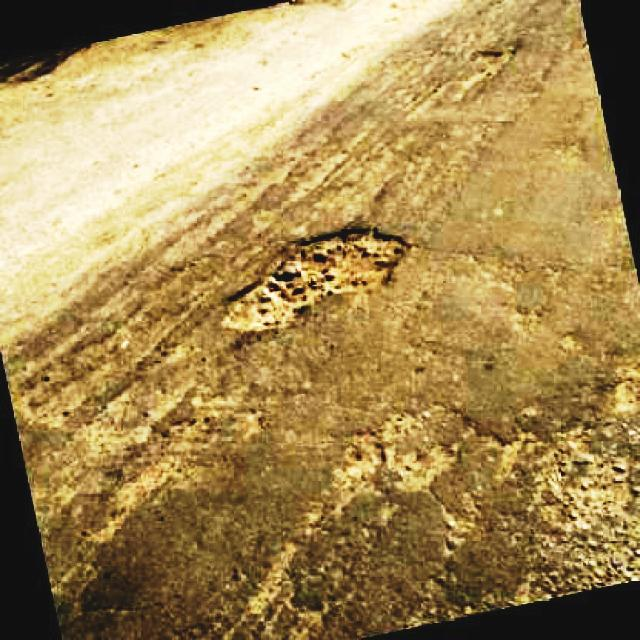pothole: (217, 220, 415, 335), (531, 412, 640, 525), (334, 411, 454, 498)
